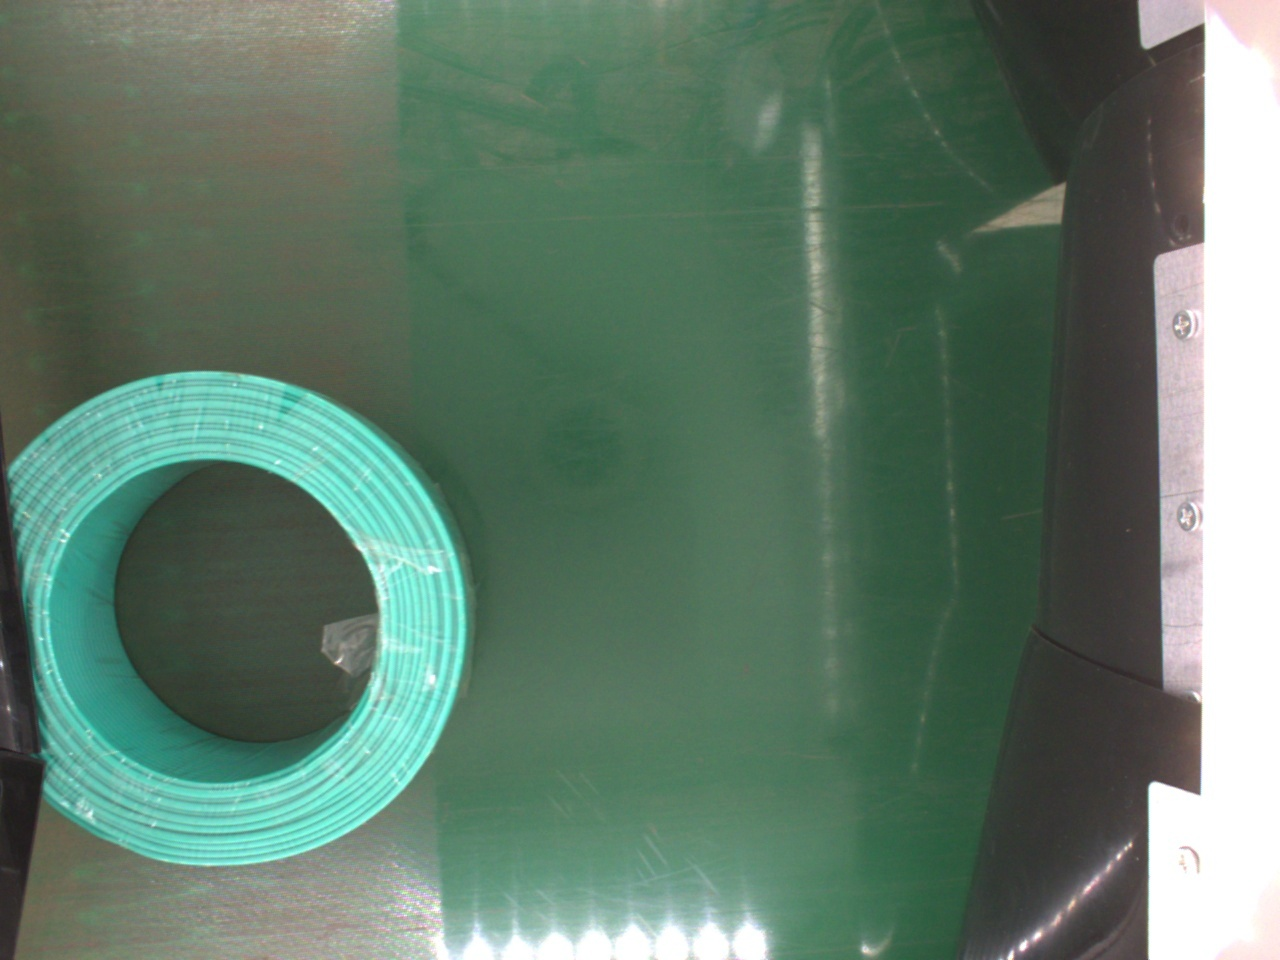green: (10, 368, 475, 869)
